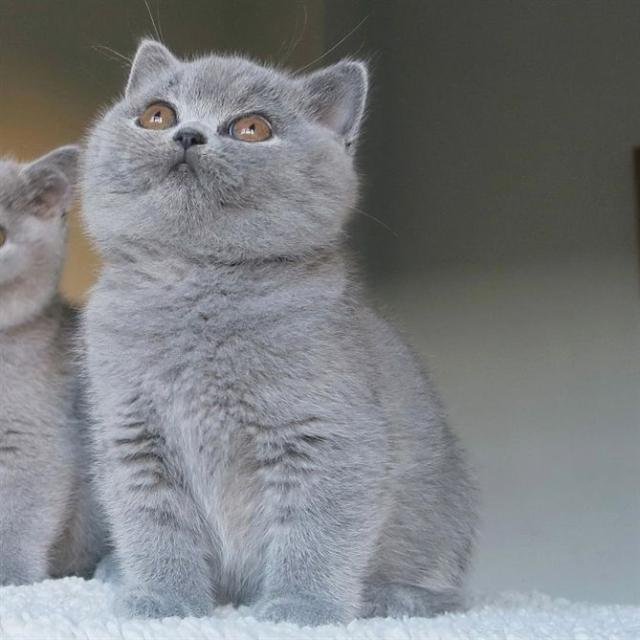british shorthair: (90, 35, 501, 640)
